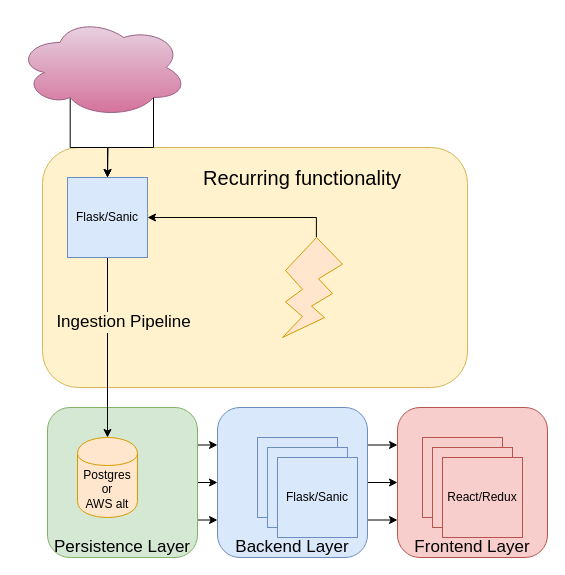
Some shapes in this 565 by 575 pixel diagram are drawn without their labels. Each missing label, with the centre of its shape:
Scheduled event to trigger ingestion pipeline (Lambda, github action, cron job): the point at 312,287
Socrata data source: the point at 102,67
